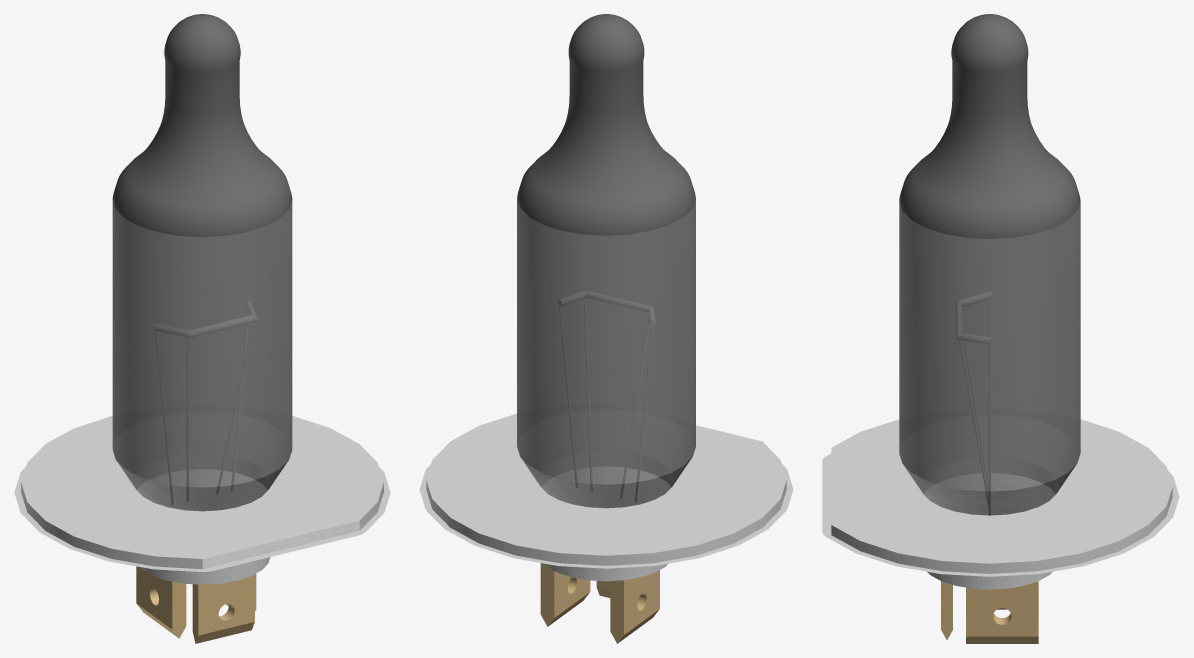
3 renders of one model, left to right at view 1: azimuth 30°, elevation 25°; view 2: azimuth 150°, elevation 25°; view 3: azimuth 270°, elevation 25°, orthographic.
Visible parts, largest first — view 1: group_0 (×10); view 2: group_0 (×9); view 3: group_0 (×9).
Part boxes in pixels (x1,y1,x2,y2): group_0 (×10): (14, 14, 390, 643); group_0 (×9): (419, 14, 793, 643); group_0 (×9): (822, 14, 1179, 643).
Size of the model in its own units: 17.85 by 16.8 by 31.62.
